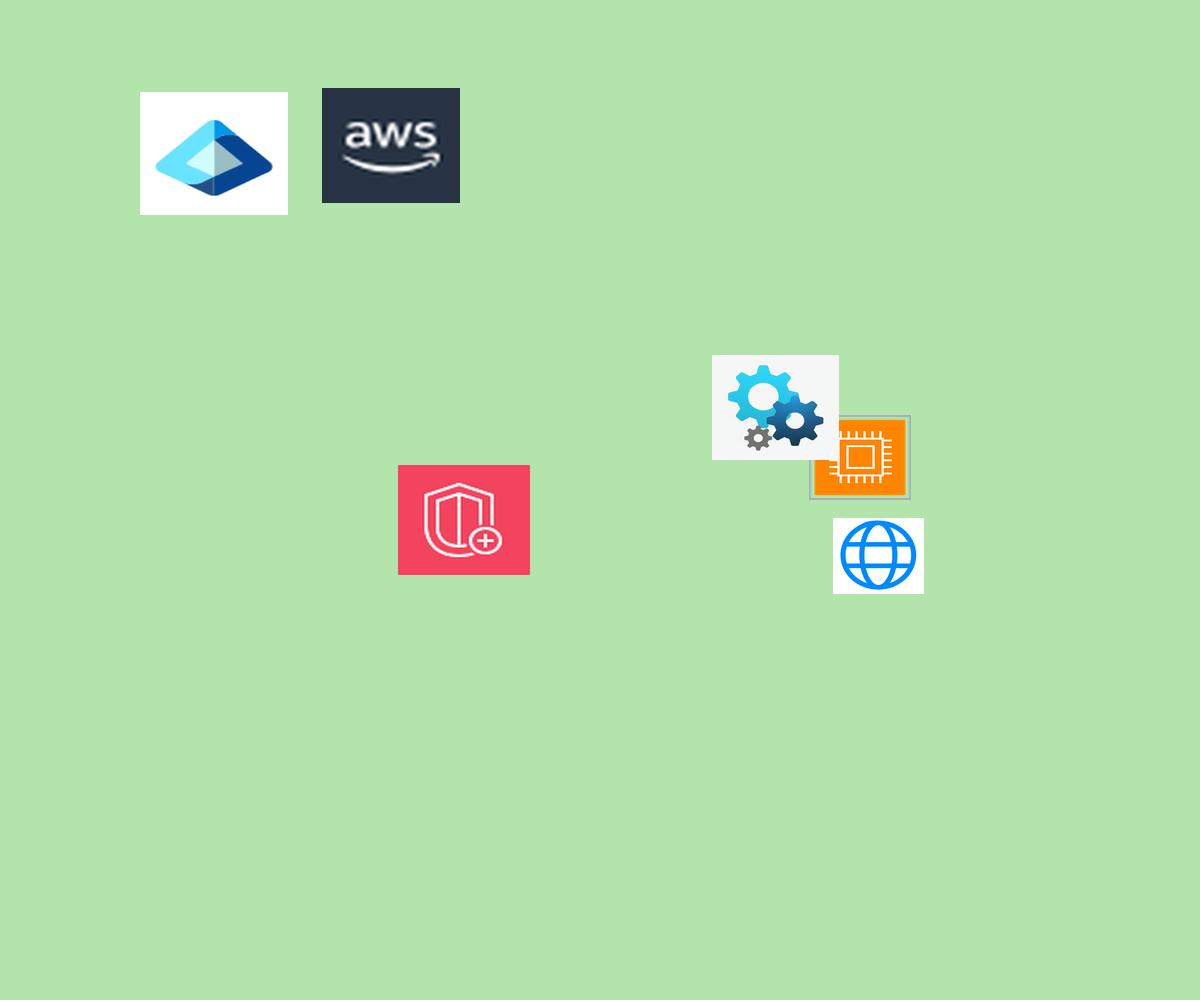AWS-Category_Compute: (809, 415, 911, 500)
AWS-Cloud-logo: (322, 88, 460, 203)
AWS-Shield: (398, 465, 530, 575)
Azure_api: (712, 355, 839, 460)
Azure_http: (833, 518, 924, 594)
Azure_microsoft_entra: (140, 92, 288, 215)
